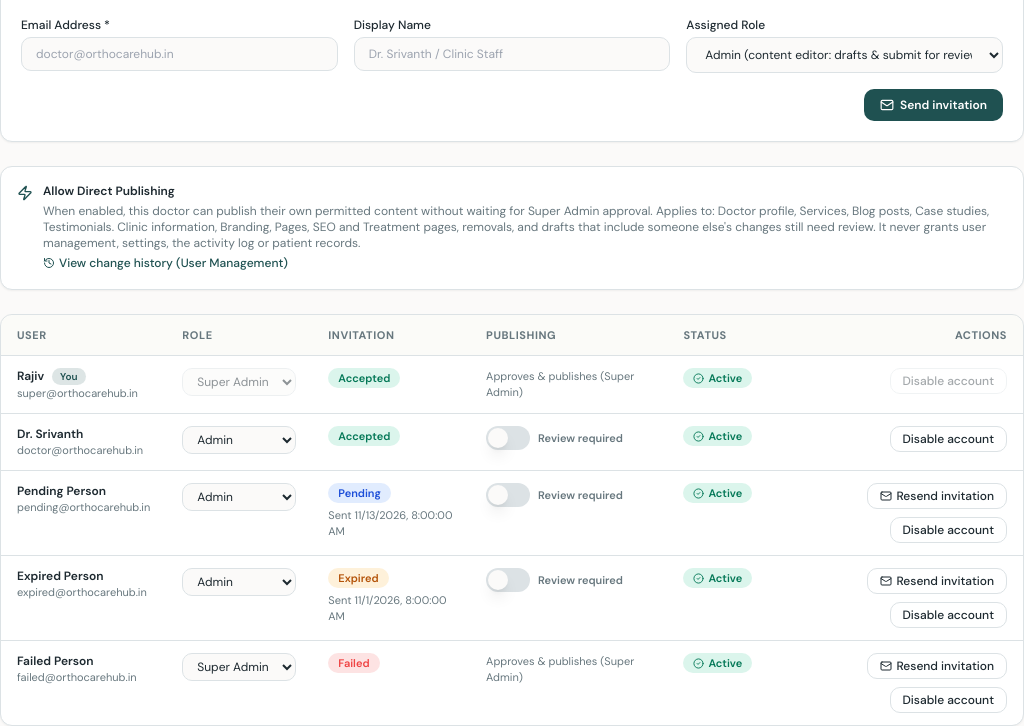
Test: Invitations › TEST 14: shows Pending / Accepted / Expired / Failed and offers Resend only where it applies
The image size is (1024, 726).
(page scrolled)
Expected: the text "pending@orthocarehub.in" is shown, 17,499 -> 150,515
Click the button "Resend invitation" in the row of "Expired Person".
click(937, 581)  # box 867,568 -> 1007,594
(page scrolled)
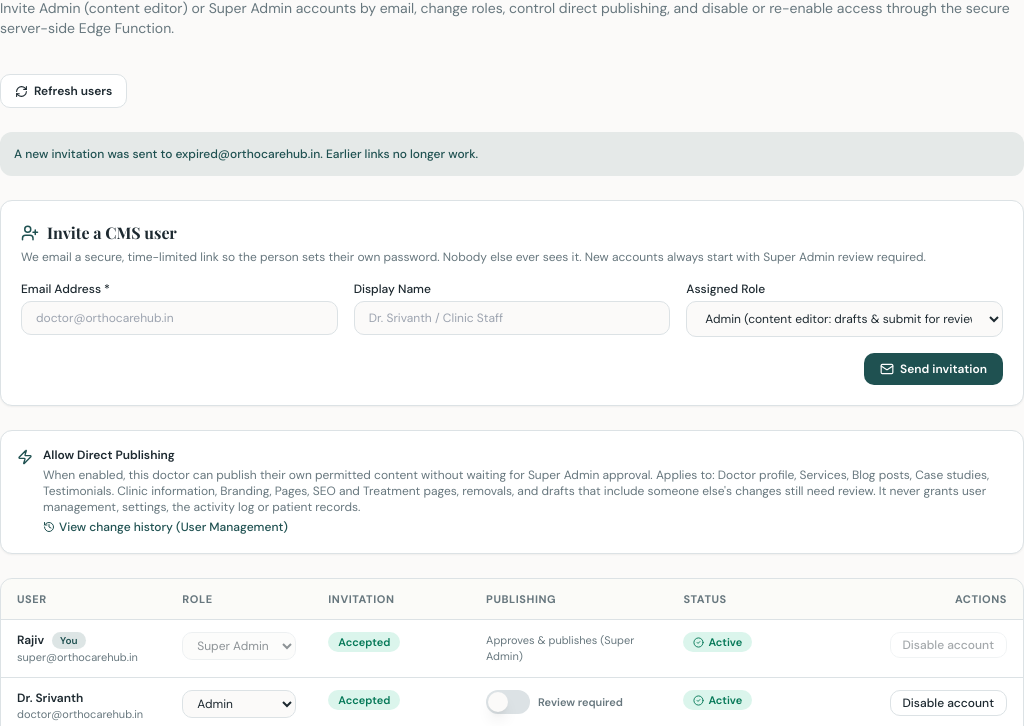
Now the text "earlier links no longer work" is shown, box 14,146 -> 478,162
